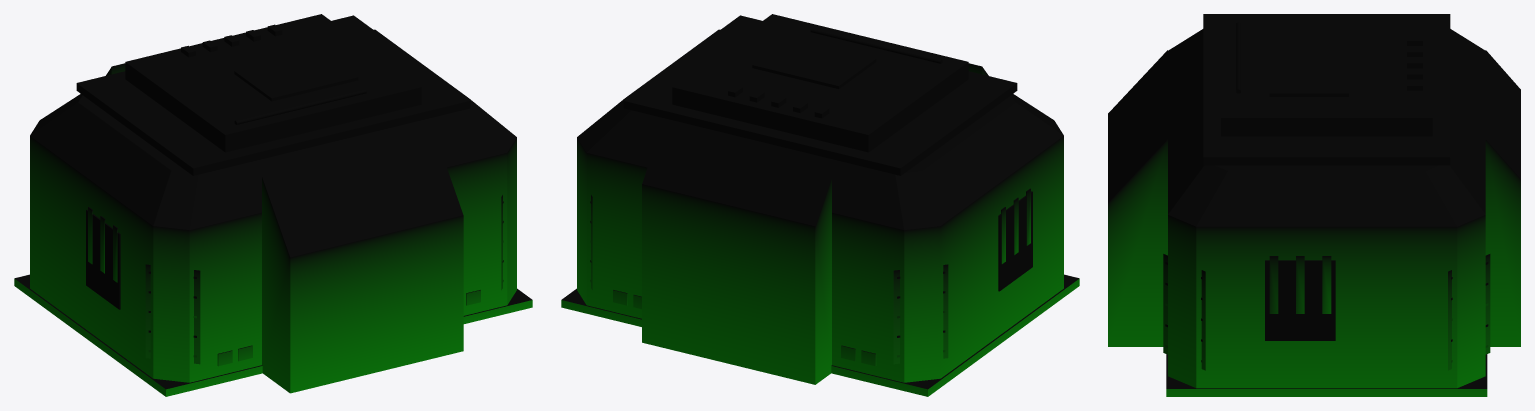
File: centerlobby.glb
3 renders of one model, left to right at view 1: azimuth 30°, elevation 25°; view 2: azimuth 150°, elevation 25°; view 3: azimuth 270°, elevation 25°, orthographic. The views are drawn at different scales.
Parts seen in each view (by area): view 1: lod0; view 2: lod0; view 3: lod0.
Part boxes in pixels (x1,y1,x2,y2): lod0: [14, 14, 532, 396]; lod0: [561, 14, 1079, 396]; lod0: [1108, 14, 1520, 396].
Size of what is drawn, in the model's own units: 25.65 by 15.05 by 23.4.
